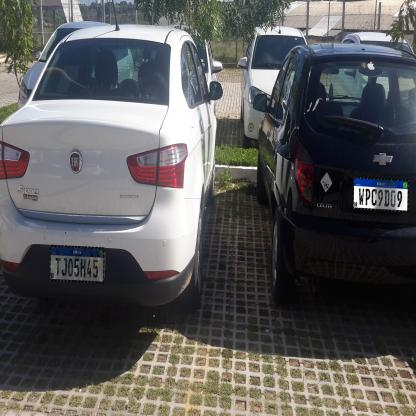PlacaM: (50, 245, 104, 283), (353, 176, 409, 212)
